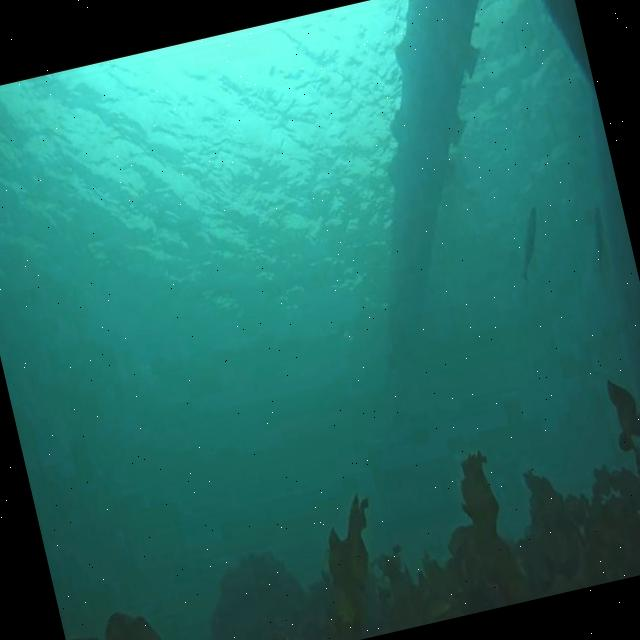fish: (506, 205, 554, 288), (582, 202, 616, 276)
